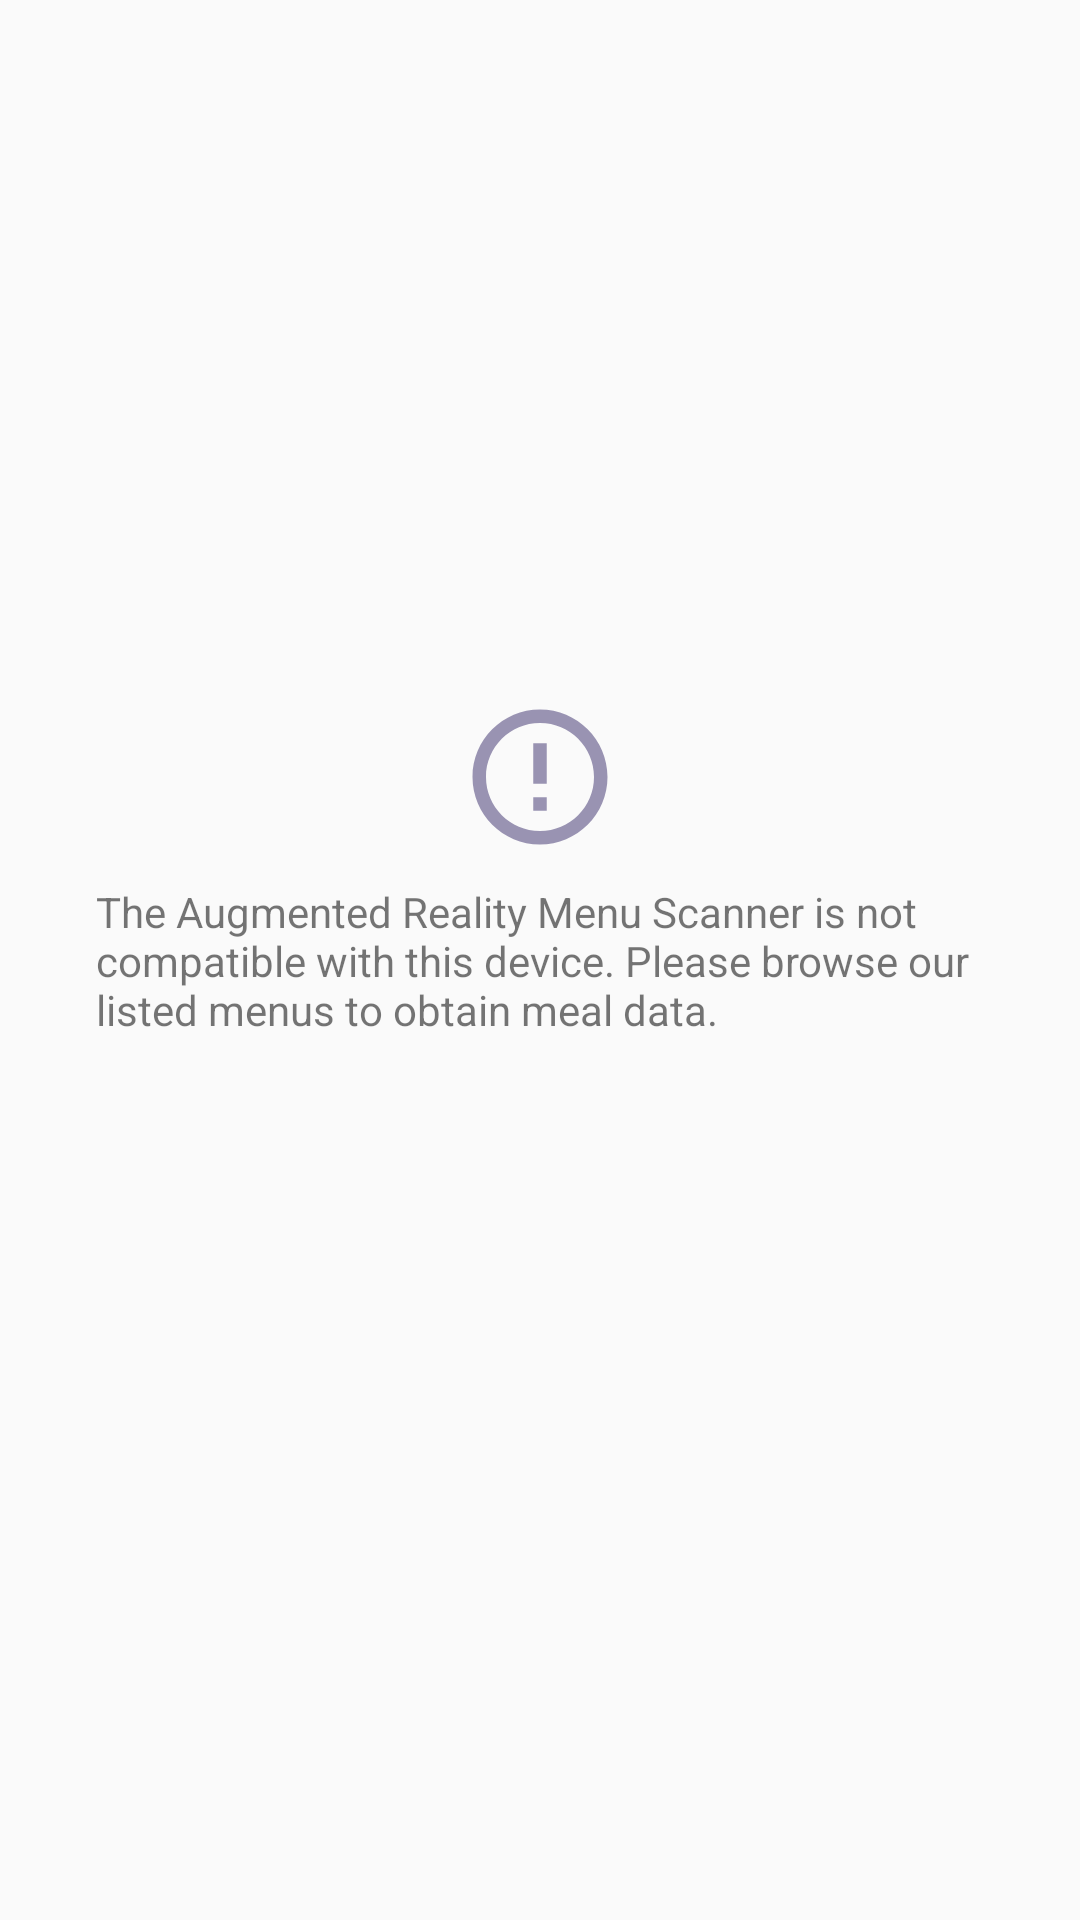

Icon bounding boxes for this 1080px×1920px phone screenshot, format (x1, y1, x2, y2):
error: (472, 709, 608, 845)
